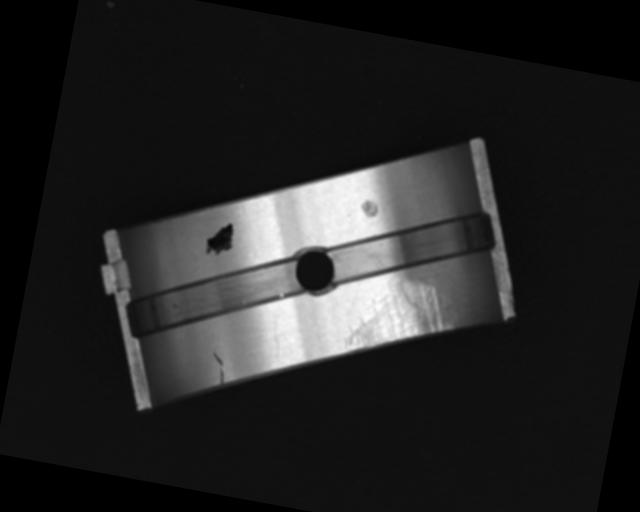blot: (202, 219, 237, 261)
bruise: (359, 198, 380, 220)
gap: (121, 228, 304, 361), (321, 184, 500, 309)
hole: (286, 242, 339, 300)
nick: (206, 352, 229, 387), (267, 320, 287, 359)
scratch: (341, 269, 463, 371)
